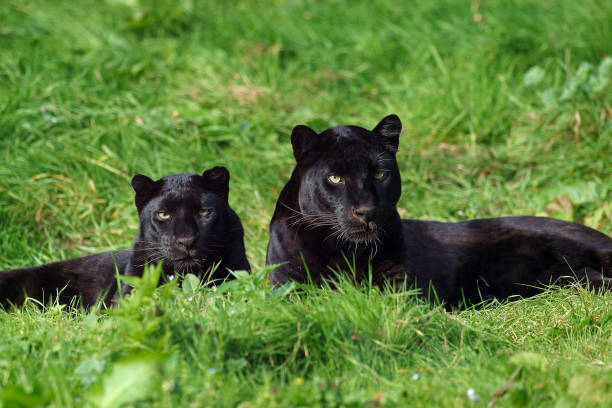panther: (277, 107, 415, 259), (117, 164, 238, 278)
